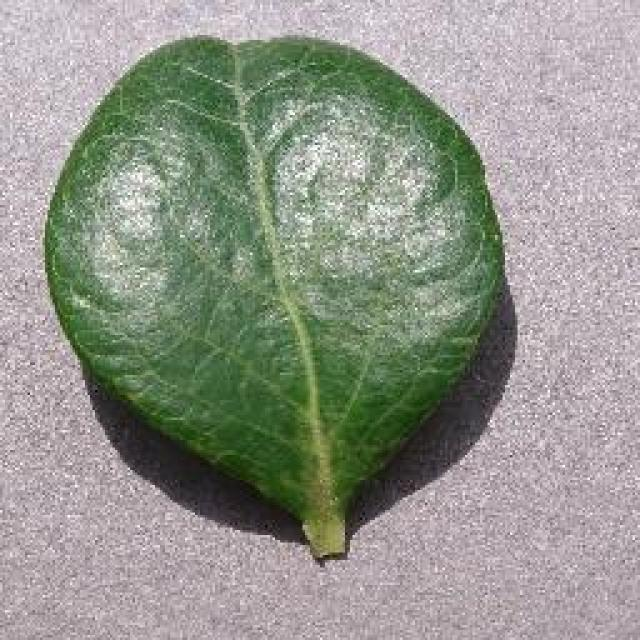Blu_healthy: (71, 71, 509, 442)
